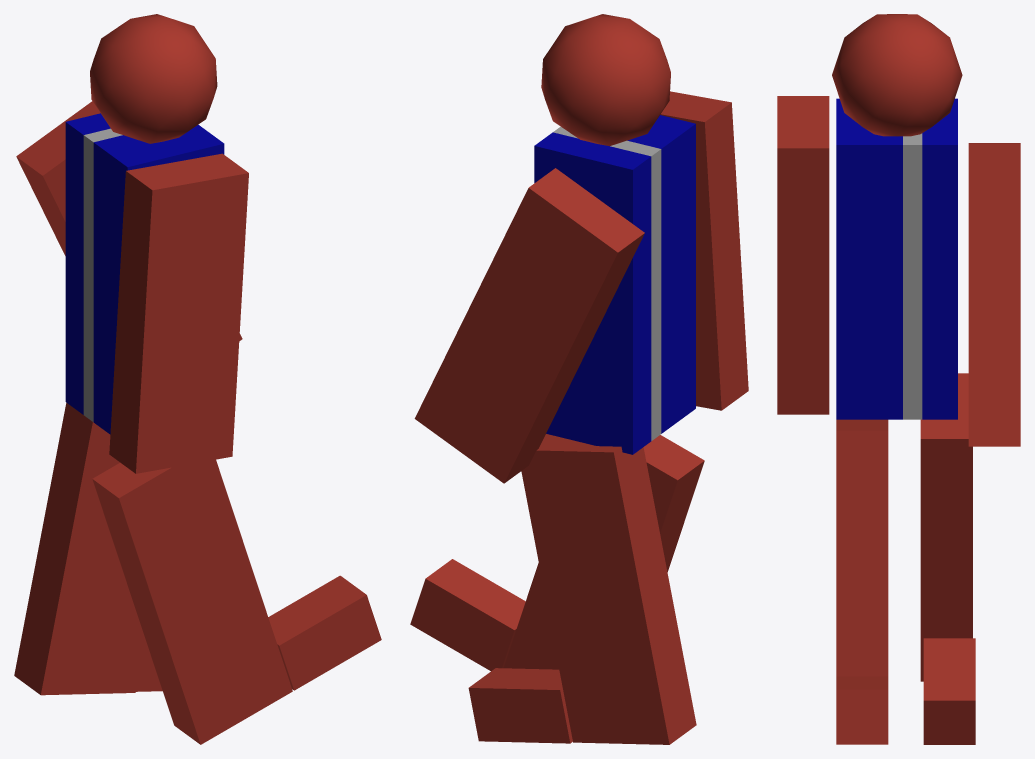
Rendered from player_000035.obj.
3 renders of one model, left to right at view 1: azimuth 30°, elevation 25°; view 2: azimuth 150°, elevation 25°; view 3: azimuth 270°, elevation 25°, orthographic. The views are drawn at different scales.
Visible parts, largest first — view 1: Cube.005, Cube.001, Cube.002, Cube, Icosphere, Cube.003, Cube.006, Cube.004; view 2: Cube.002, Cube.006, Cube, Cube.005, Icosphere, Cube.003, Cube.001, Cube.004; view 3: Cube, Cube.005, Cube.006, Cube.001, Icosphere, Cube.002, Cube.004, Cube.003.
Part boxes in pixels (x1,y1,x2,y2): Cube.005: [109, 153, 248, 473]; Cube.001: [92, 459, 292, 744]; Cube.002: [14, 403, 145, 695]; Cube: [65, 113, 224, 434]; Icosphere: [90, 14, 217, 143]; Cube.003: [268, 575, 381, 690]; Cube.006: [16, 101, 242, 341]; Cube.004: [135, 640, 162, 691]; Cube.002: [521, 434, 696, 744]; Cube.006: [414, 168, 644, 483]; Cube: [534, 115, 695, 454]; Cube.005: [660, 91, 748, 410]; Icosphere: [541, 14, 670, 146]; Cube.003: [410, 559, 525, 670]; Cube.001: [503, 435, 704, 669]; Cube.004: [468, 668, 572, 743]; Cube: [836, 98, 957, 419]; Cube.005: [777, 96, 829, 414]; Cube.006: [968, 143, 1020, 446]; Cube.001: [836, 419, 888, 676]; Icosphere: [832, 14, 962, 136]; Cube.002: [920, 373, 972, 681]; Cube.004: [923, 638, 975, 744]; Cube.003: [836, 676, 888, 744].
Size of the model in its own units: 1.27 by 2.87 by 0.9137.
